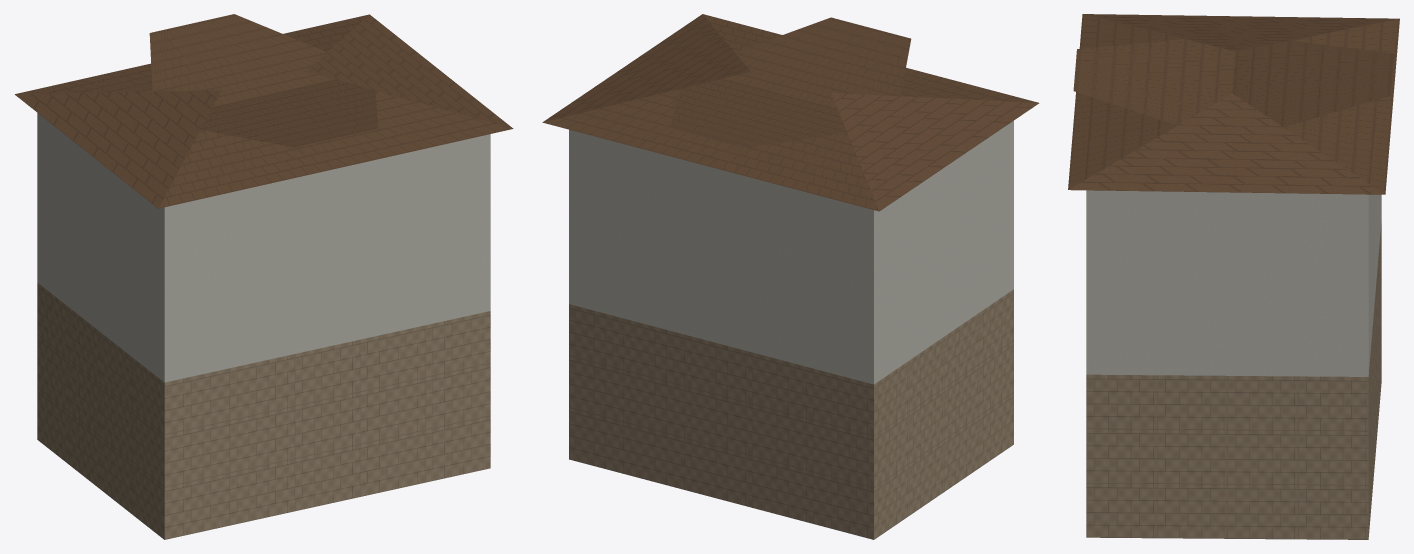
Rendered from bld_c32_45_246.gltf.
The picture shows the model from 3 angles, left to right: view 1: azimuth 30°, elevation 25°; view 2: azimuth 150°, elevation 25°; view 3: azimuth 270°, elevation 25°; orthographic projection. The views are drawn at different scales.
Visible parts, largest first — view 1: bld_c32_45_246; view 2: bld_c32_45_246; view 3: bld_c32_45_246.
Boxes of the visible parts, left/top/right/bottom form: bld_c32_45_246: left=15, top=14, right=513, bottom=539; bld_c32_45_246: left=542, top=14, right=1039, bottom=539; bld_c32_45_246: left=1068, top=14, right=1399, bottom=539.
Bounding box in the file's own units: 12.13 × 12.1 × 9.41.
3 materials, 3 textured.
